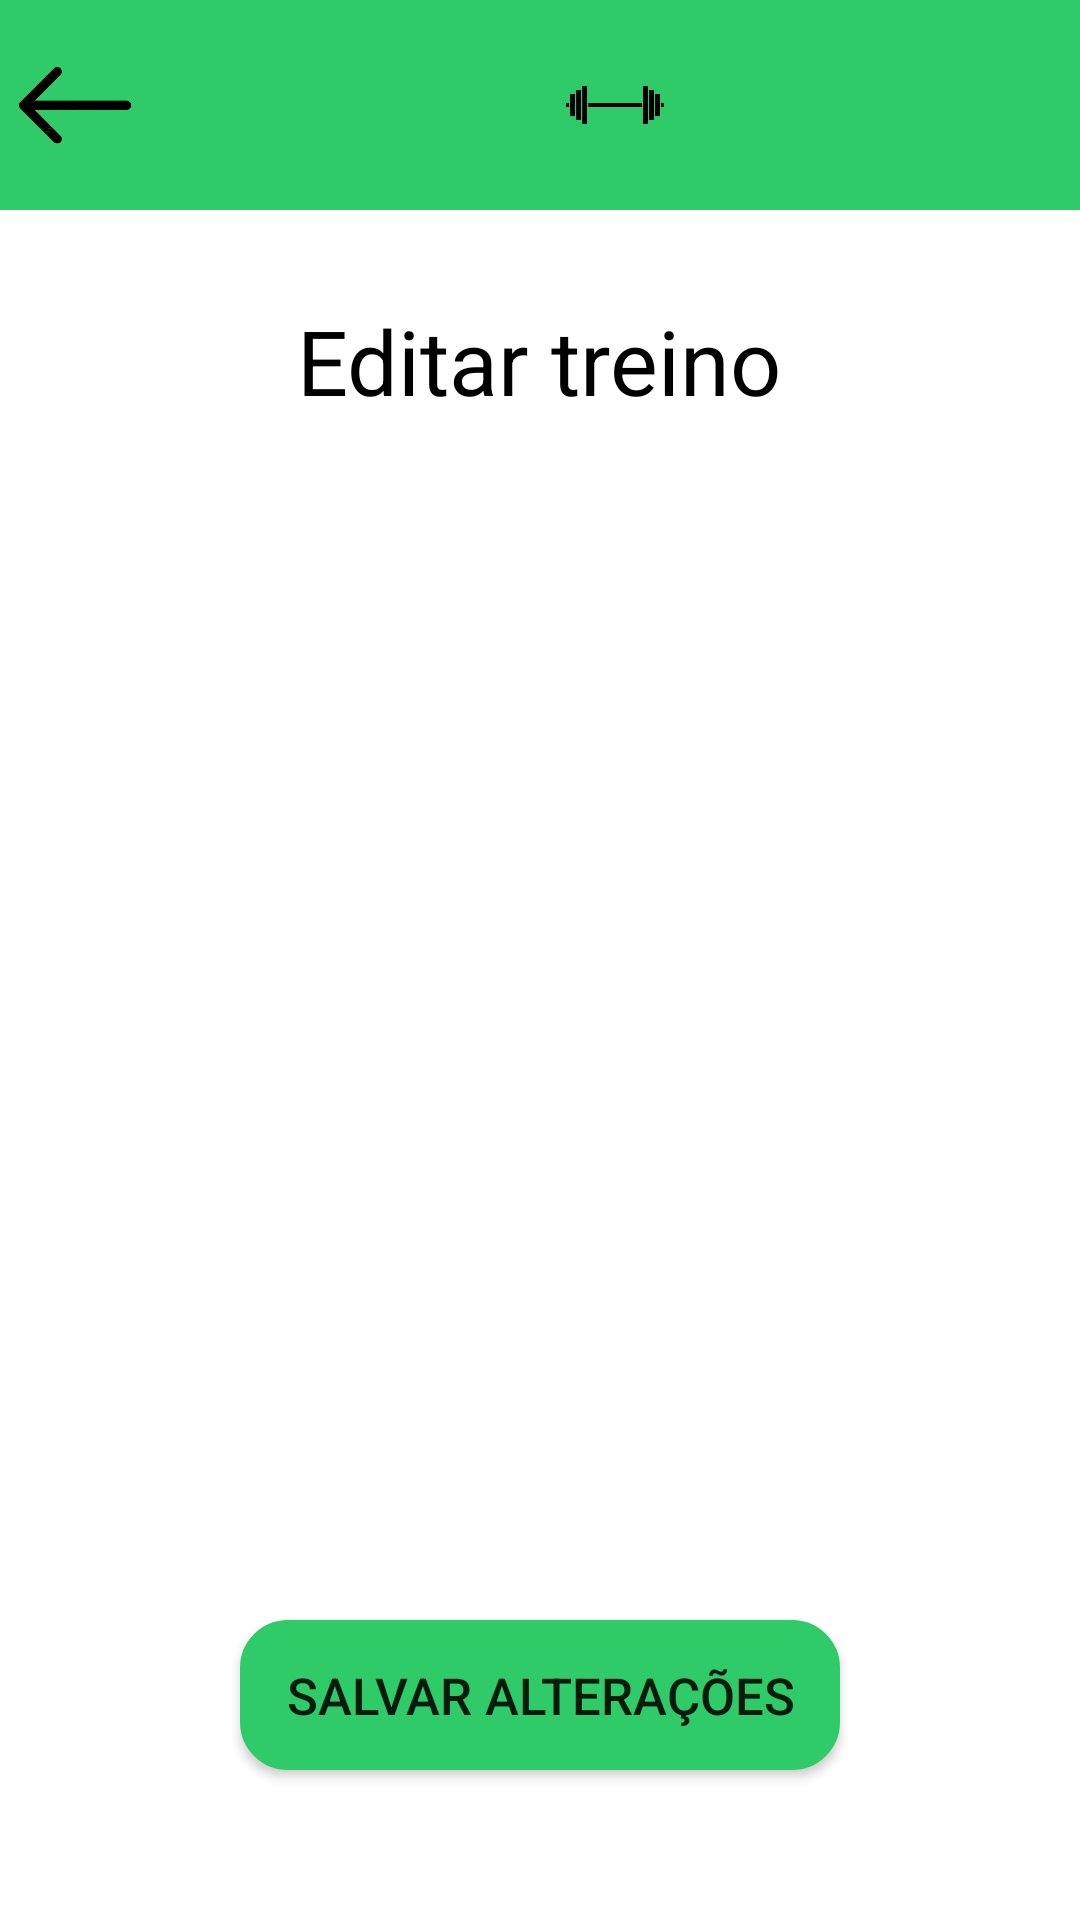

Where to tap for icons on this 1080x1920 app screen, as point (x, y):
voltar: point (75, 105)
